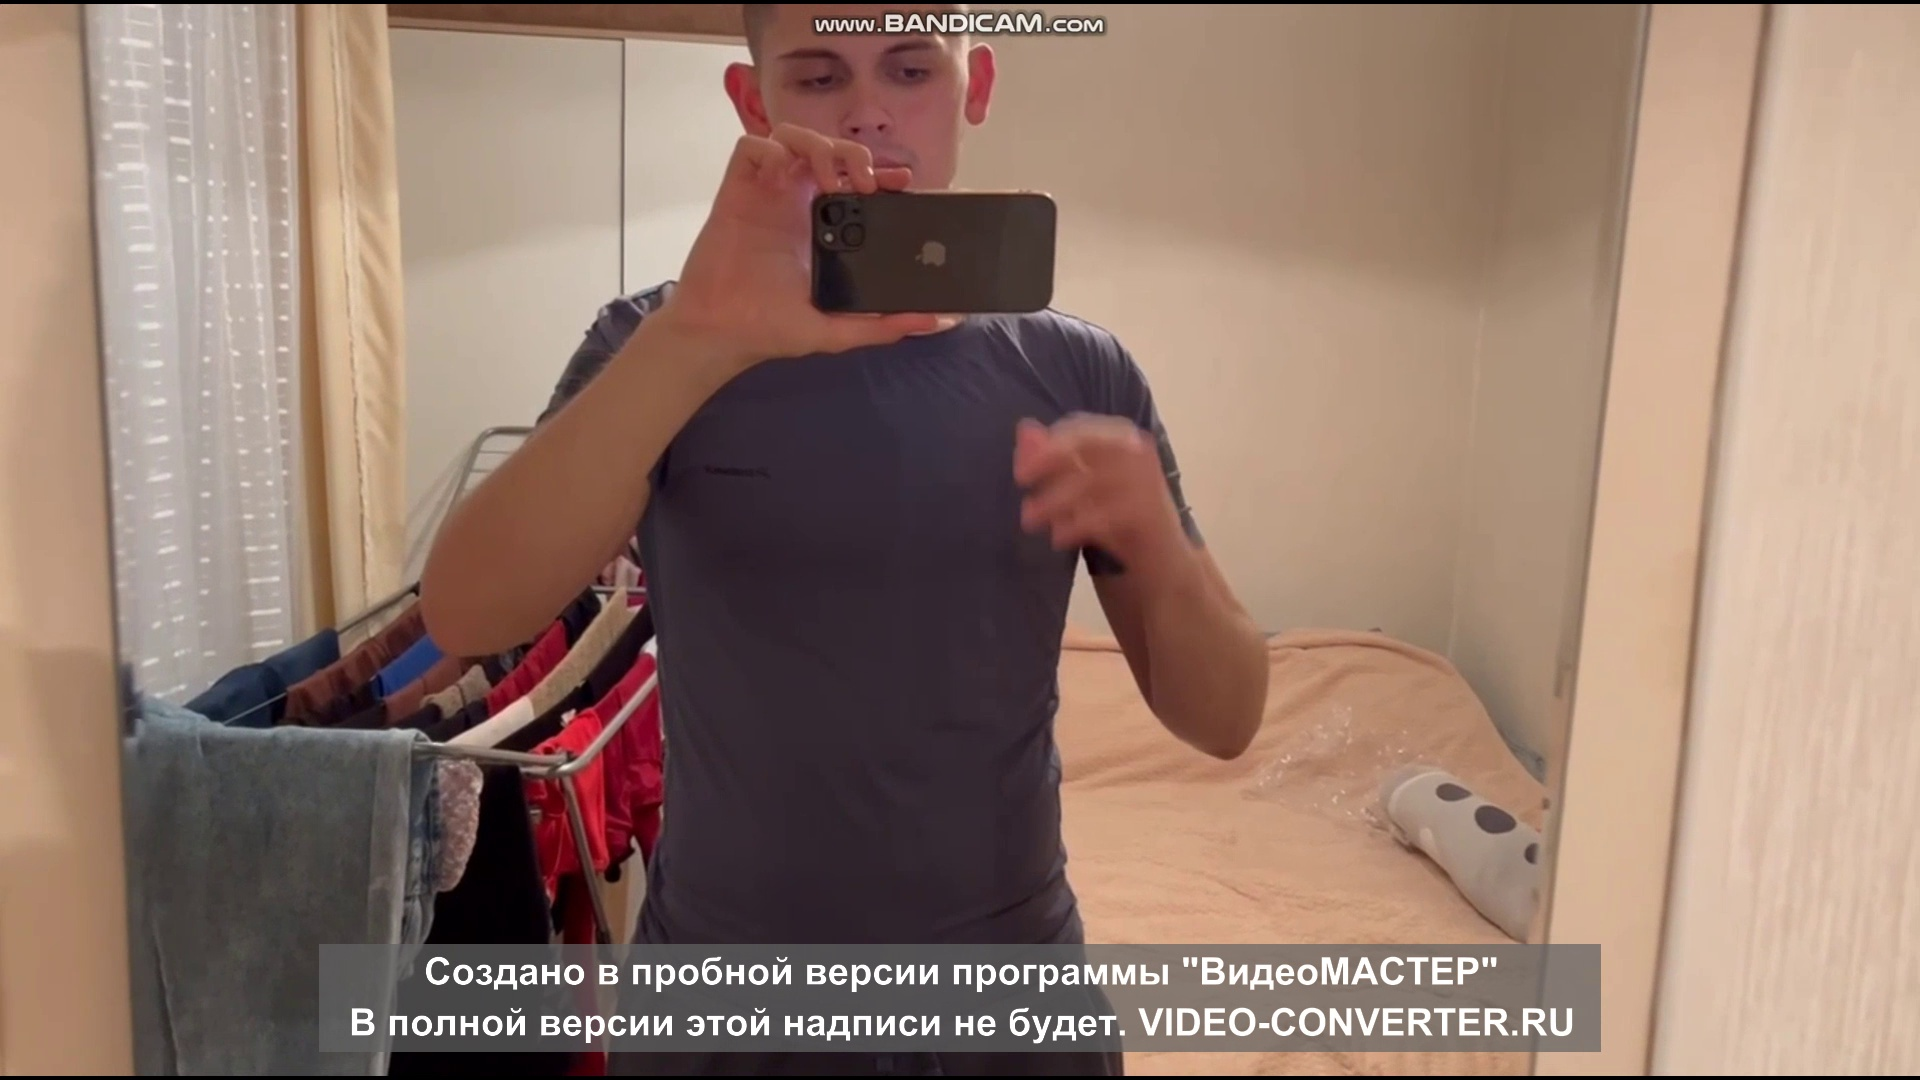Кисть: (1014, 414, 1184, 596)
